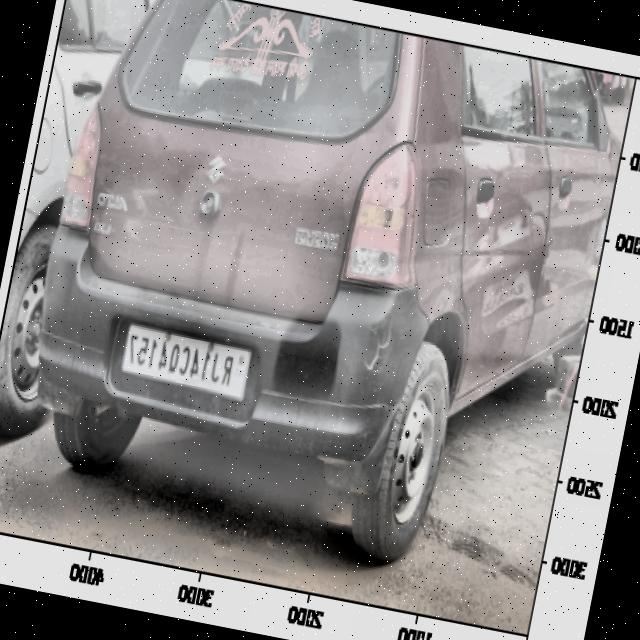license_plate: (117, 329, 240, 394)
